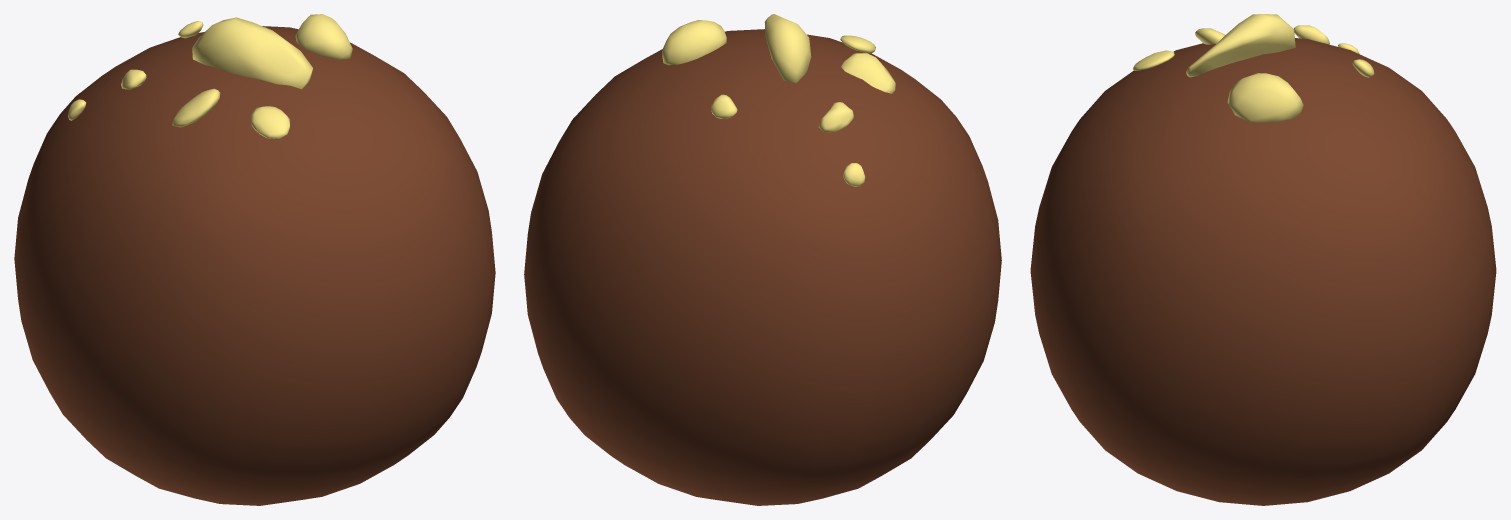
The model's file is Truffle_03.fbx.
3 views of the same model, side by side, from view 1: azimuth 30°, elevation 25°; view 2: azimuth 150°, elevation 25°; view 3: azimuth 270°, elevation 25° (orthographic). The views are drawn at different scales.
Parts seen in each view (by area): view 1: Truffle_03_LOD0; view 2: Truffle_03_LOD0; view 3: Truffle_03_LOD0.
Boxes of the visible parts, box(x1,y1,x2,y2) form: Truffle_03_LOD0: box(14, 14, 495, 505); Truffle_03_LOD0: box(524, 14, 1001, 505); Truffle_03_LOD0: box(1030, 14, 1496, 505).
Size of what is drawn, in the model's own units: 396 by 429 by 396.
